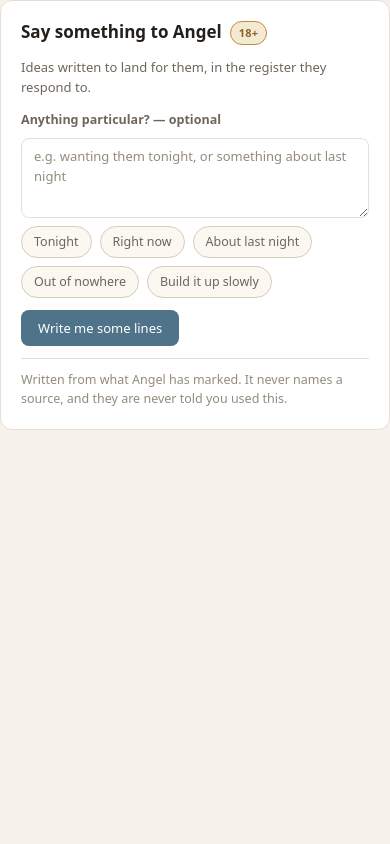
Test case: SayLines (75) › APPENDS a second batch rather than replacing the first (§3.1)
This screenshot has width=390, height=844.
Click the button "Write me some lines".
click(100, 328)  # box x1=21 y1=310 x2=179 y2=346
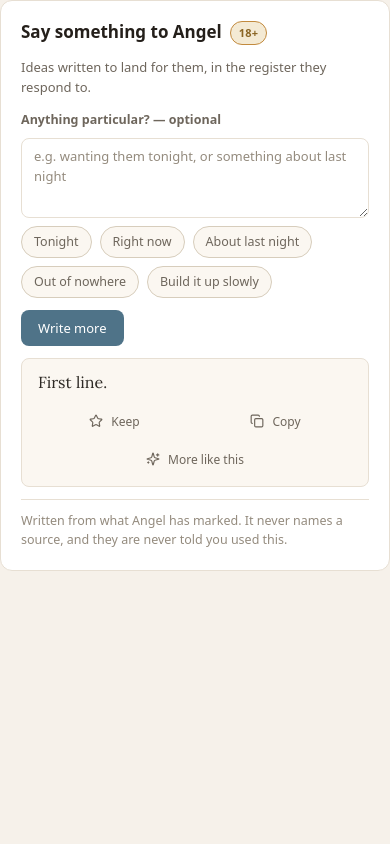
Now the text "First line." is shown, box x1=38 y1=372 x2=107 y2=392
# The label carries the state — ONE control, because generation always appends.
Click the button "Write more".
click(72, 328)  # box x1=21 y1=310 x2=124 y2=346
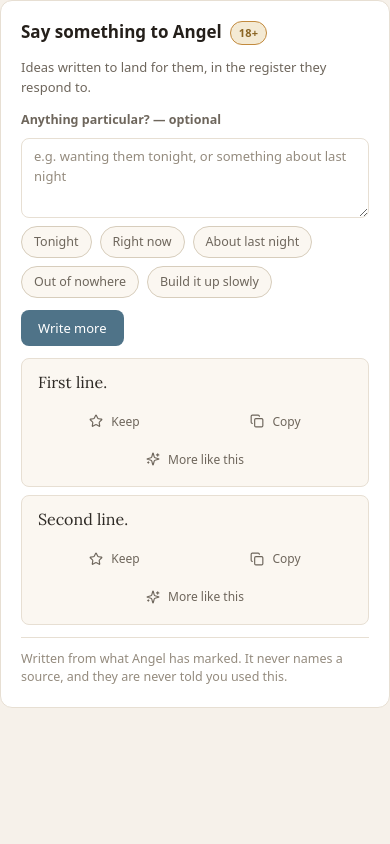
Now the text "First line." is shown, box x1=38 y1=372 x2=107 y2=392
Now the text "Second line." is shown, box x1=38 y1=509 x2=128 y2=529
